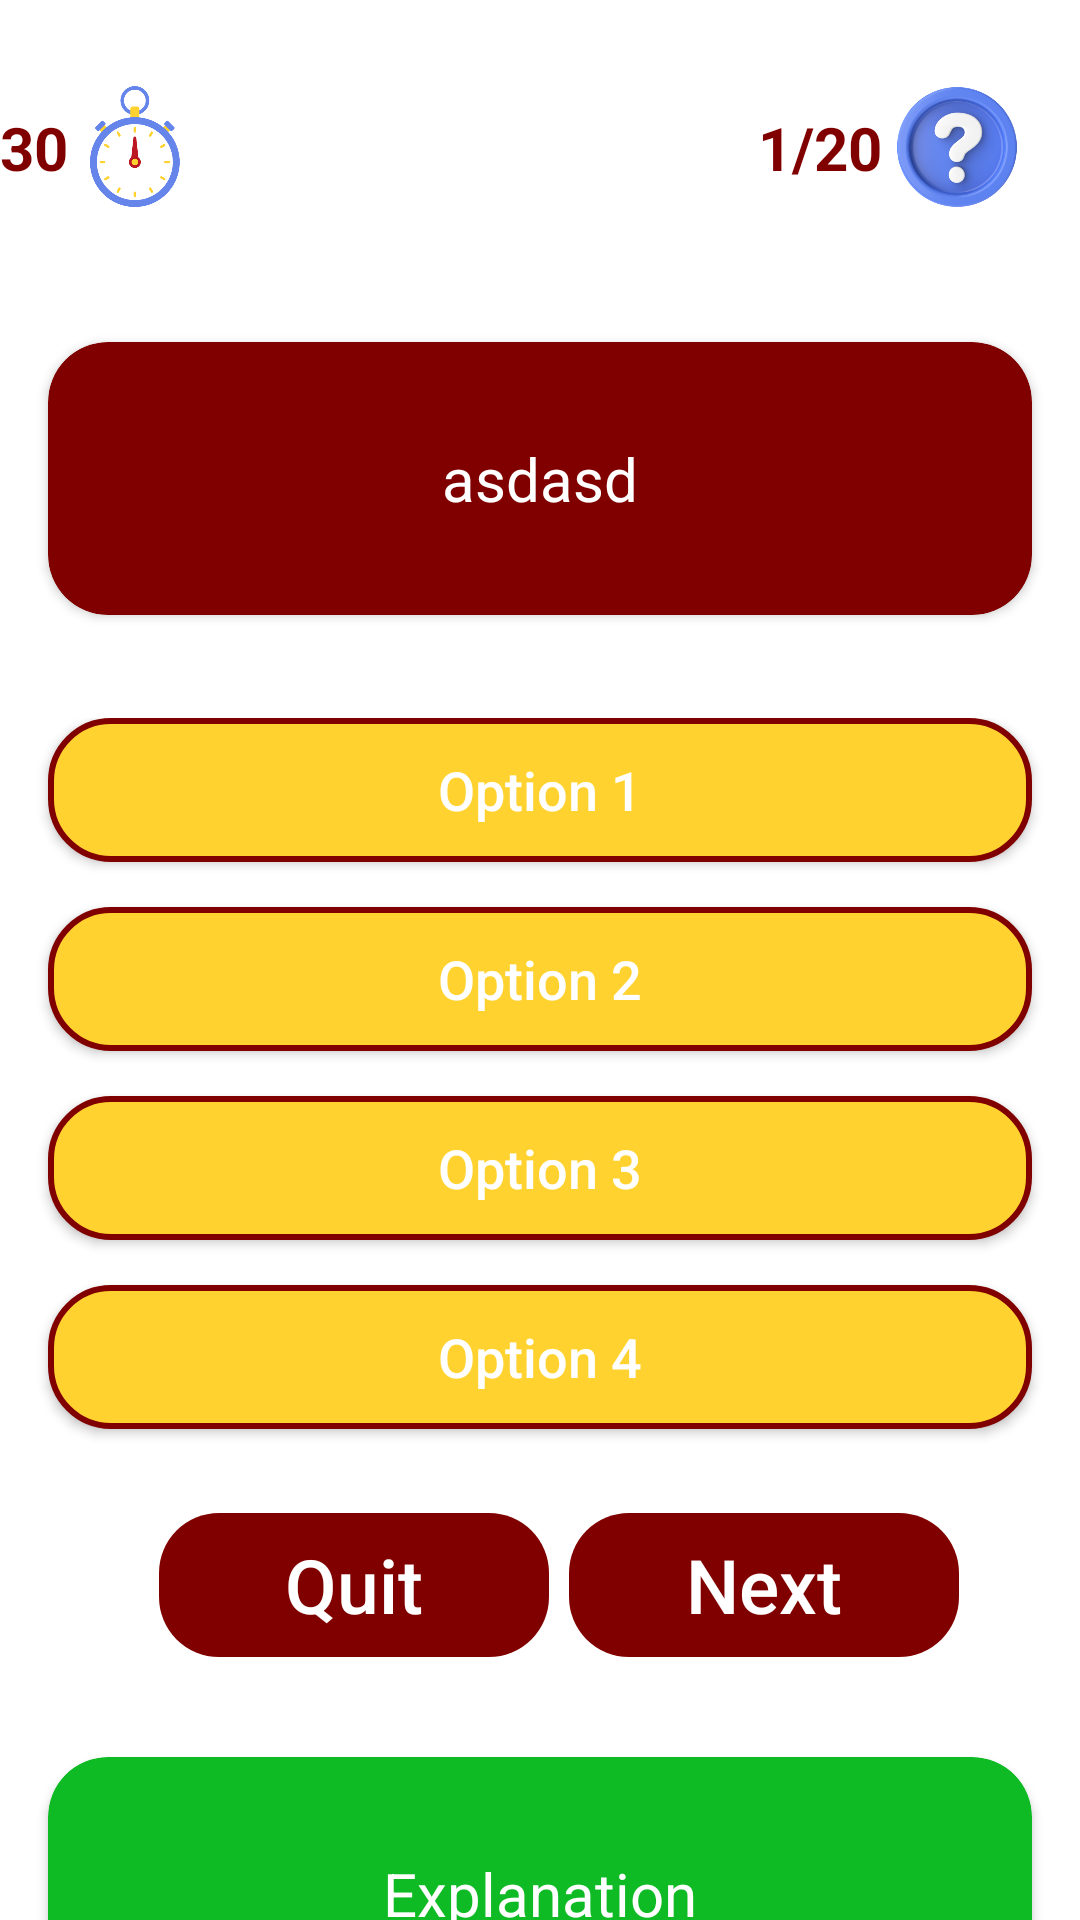

Screen size 1080×1920. Icon name, then its center in pixels as (x,y):
question: (957,147)
timewatch: (135,146)
